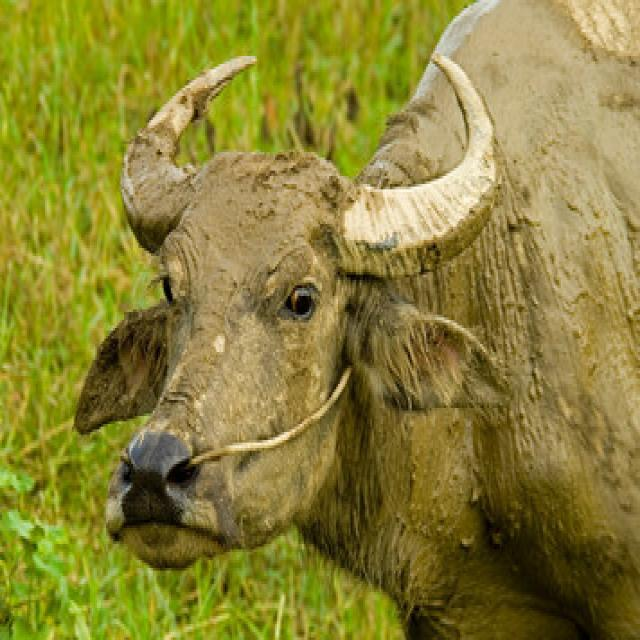Buffalo: (71, 0, 638, 637)
